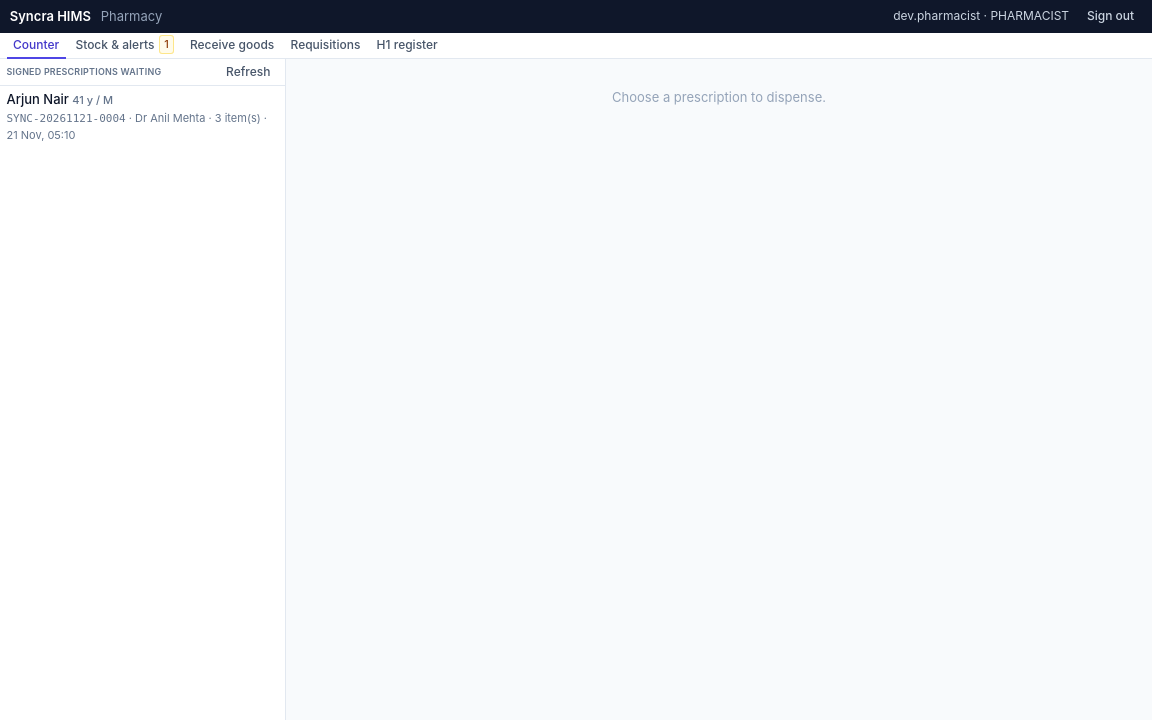
Scenario: Pharmacy desk › shows stock needing attention and writes off part of an expired batch with a reason
This screenshot has width=1152, height=720.
Click the tab "Stock & alerts 1" at (124, 46), box top-left (69, 32), bottom-right (180, 58)
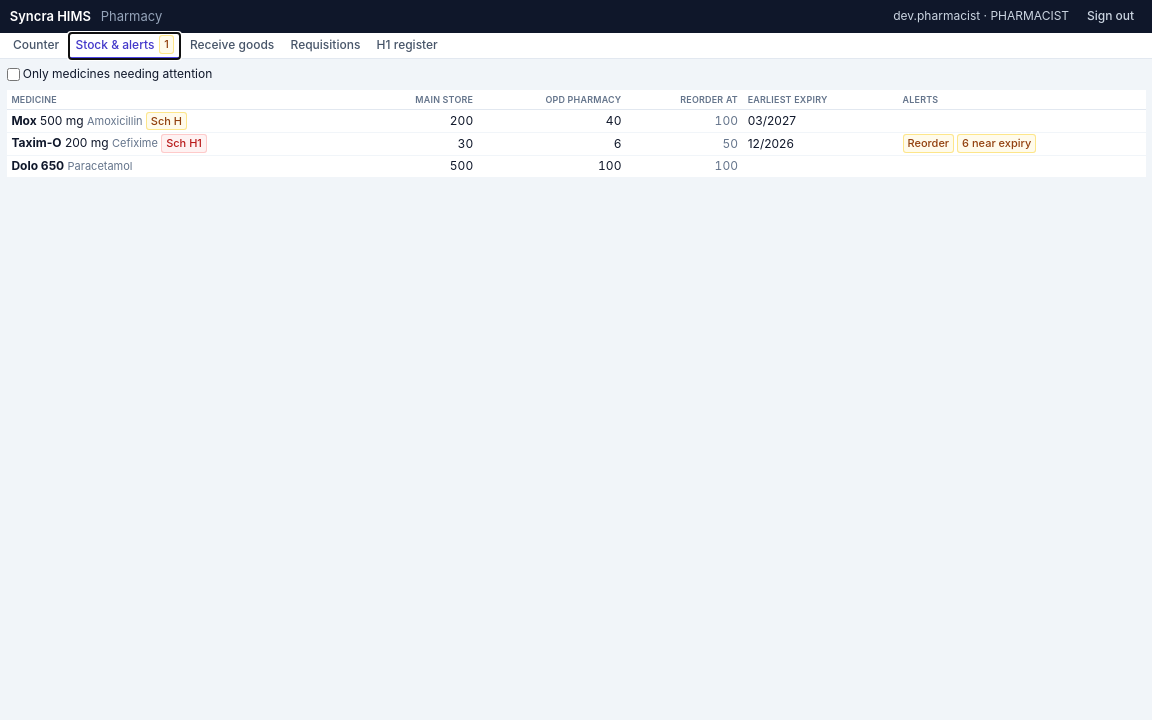
Now the row "Dolo 650" is shown, box top-left (6, 155), bottom-right (1146, 177)
Click the checkbox labelled "Only medicines needing attention" at (13, 74), box top-left (6, 68), bottom-right (20, 80)
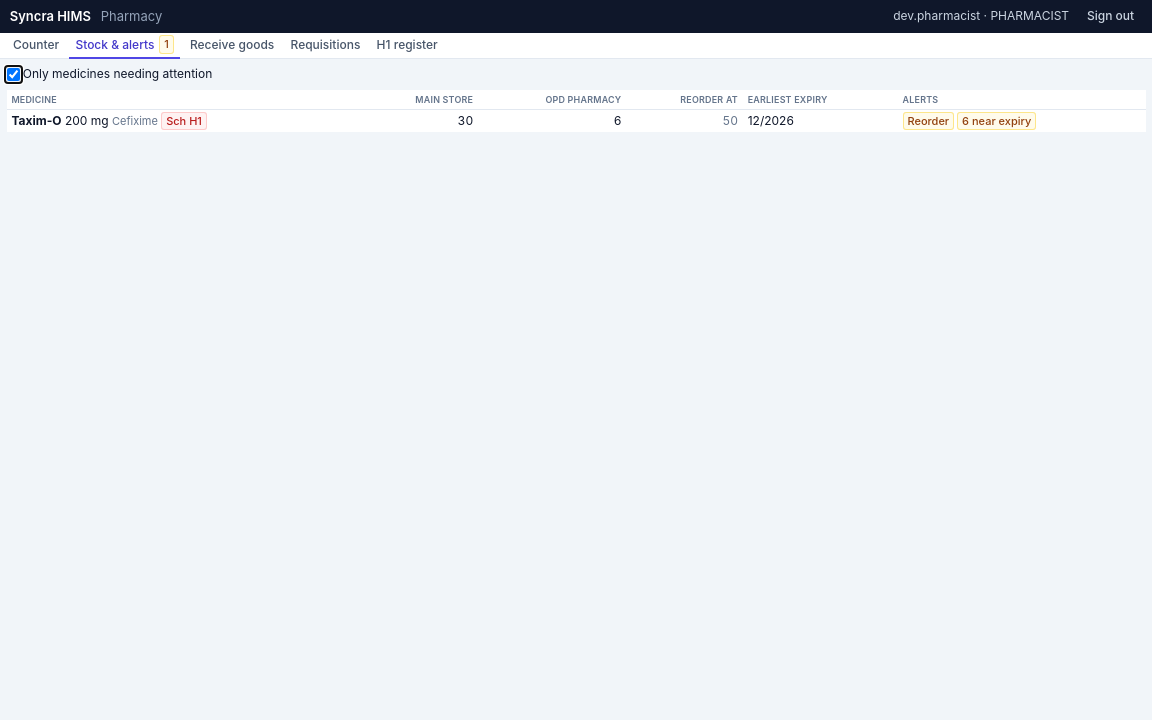
Now the row "Taxim-O" shows "Reorder", box top-left (908, 114), bottom-right (949, 128)
Now the row "Taxim-O" shows "6 near expiry"
Now the text "Dolo 650" is gone
Click the row "Taxim-O" at (36, 120), box top-left (6, 110), bottom-right (1146, 132)
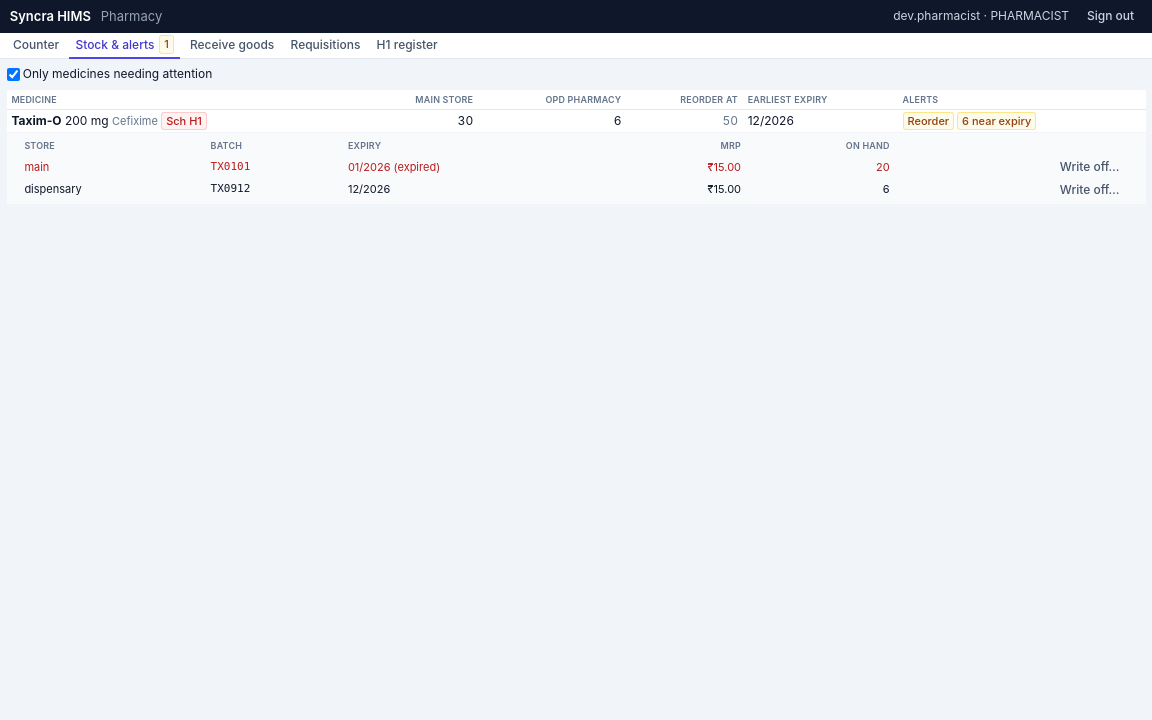
Now the text "01/2026 (expired)" is shown, box top-left (343, 156), bottom-right (626, 178)
Click the button "Write off…" in the row of "TX0101" at (1090, 167), box top-left (1052, 157), bottom-right (1128, 177)
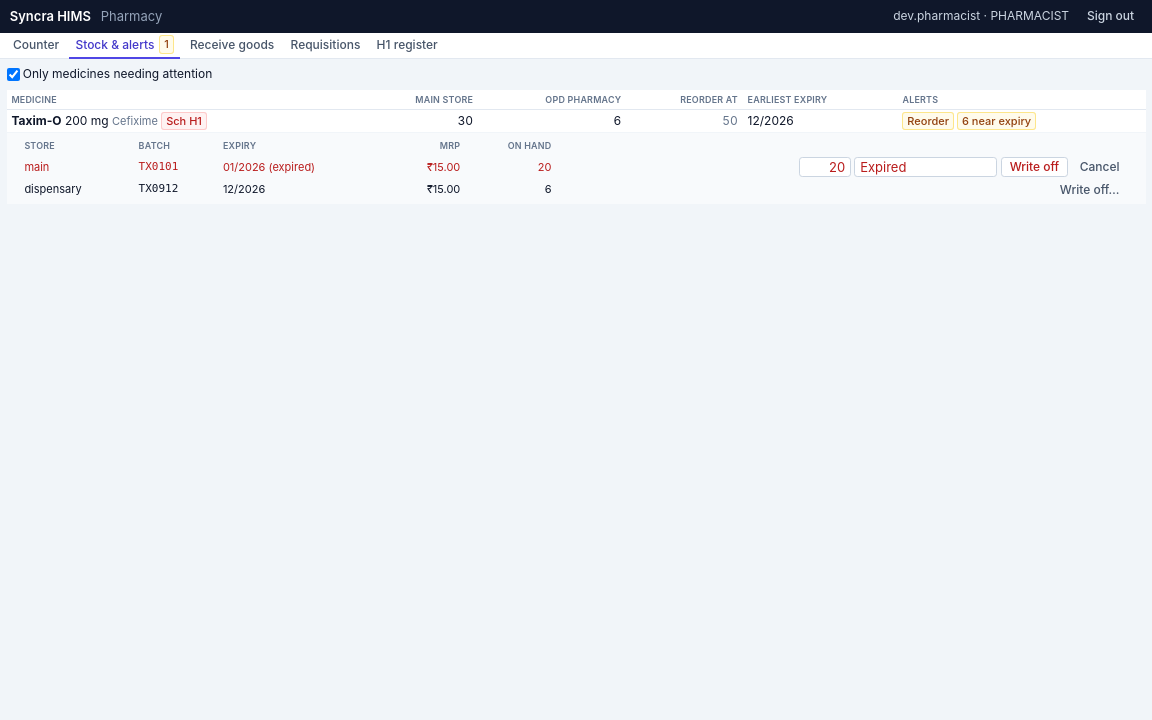
Now the field named "Quantity to write off from TX0101" holds "20"
Now the field named "Reason to write off TX0101" holds "Expired", box top-left (854, 157), bottom-right (997, 177)
Replace the text in the field named "Quantity to write off from TX0101" with "25" at (825, 167), box top-left (799, 157), bottom-right (851, 177)
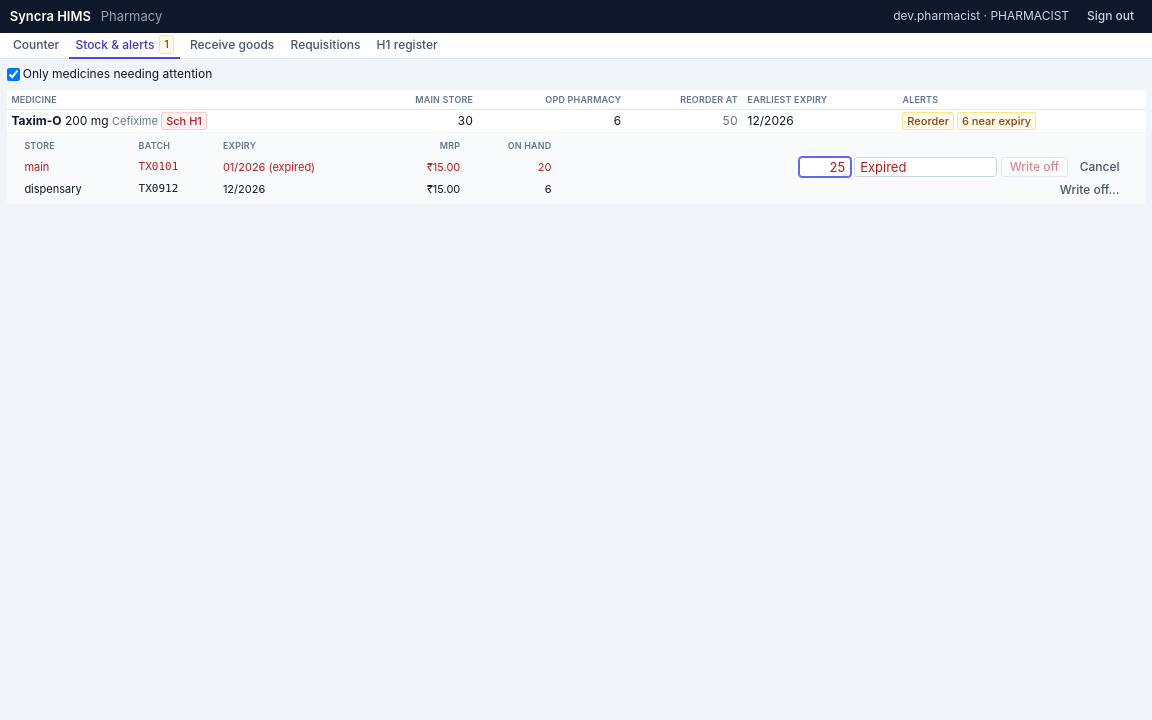
Now the button "Write off" is disabled, box top-left (1000, 157), bottom-right (1068, 177)
Replace the text in the field named "Quantity to write off from TX0101" with "12" at (825, 167), box top-left (799, 157), bottom-right (851, 177)
Click the button "Write off" at (1034, 167), box top-left (1000, 157), bottom-right (1068, 177)
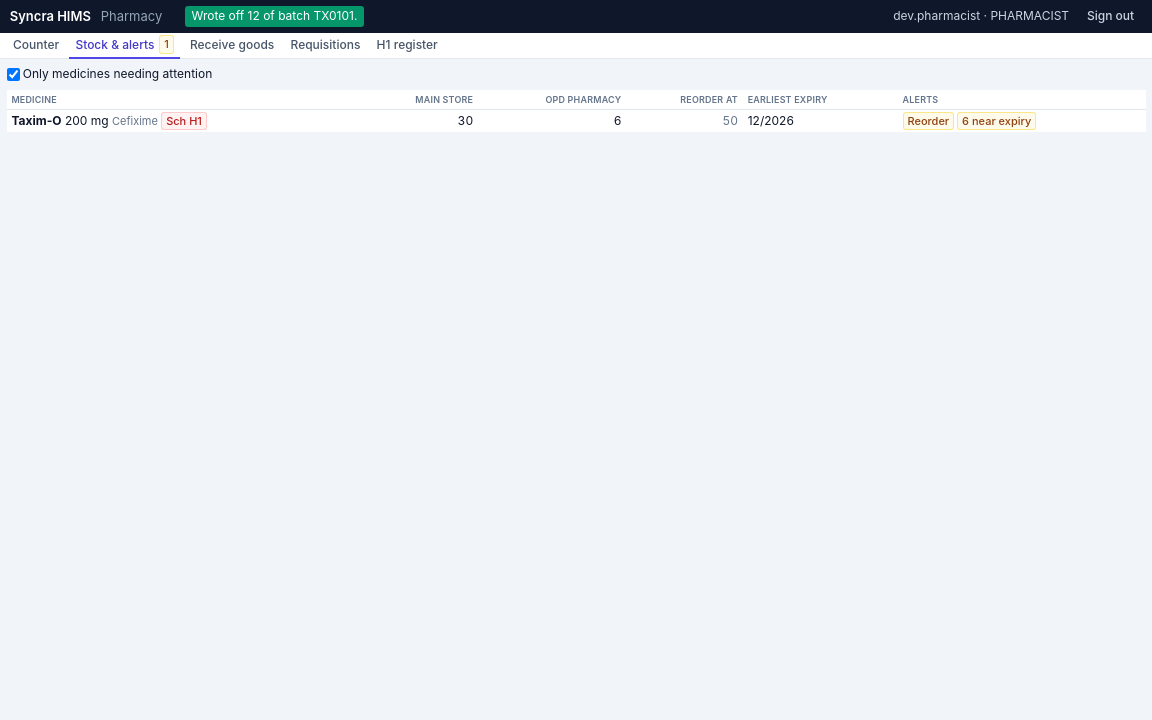
Now the message reads "Wrote off 12 of batch TX0101.", box top-left (192, 8), bottom-right (357, 23)
